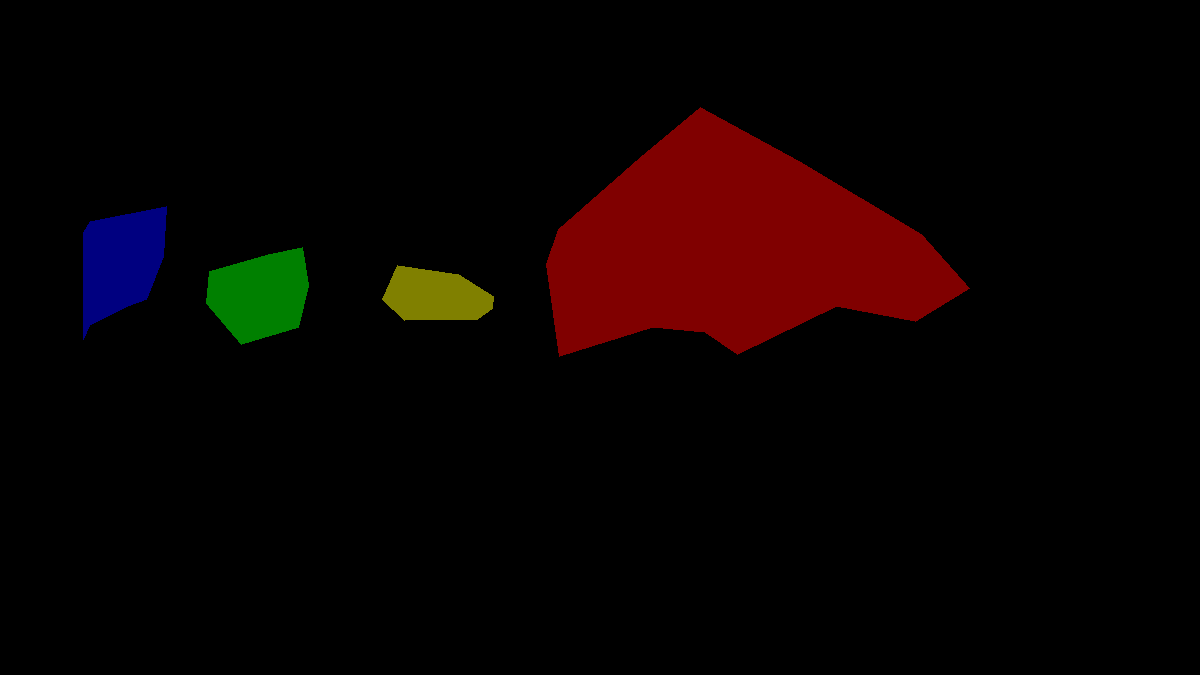fire: (546, 107, 969, 356), (83, 206, 166, 339), (206, 247, 308, 344), (382, 265, 493, 320)
